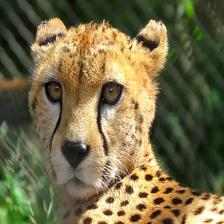Cheetah: (27, 18, 224, 222)
